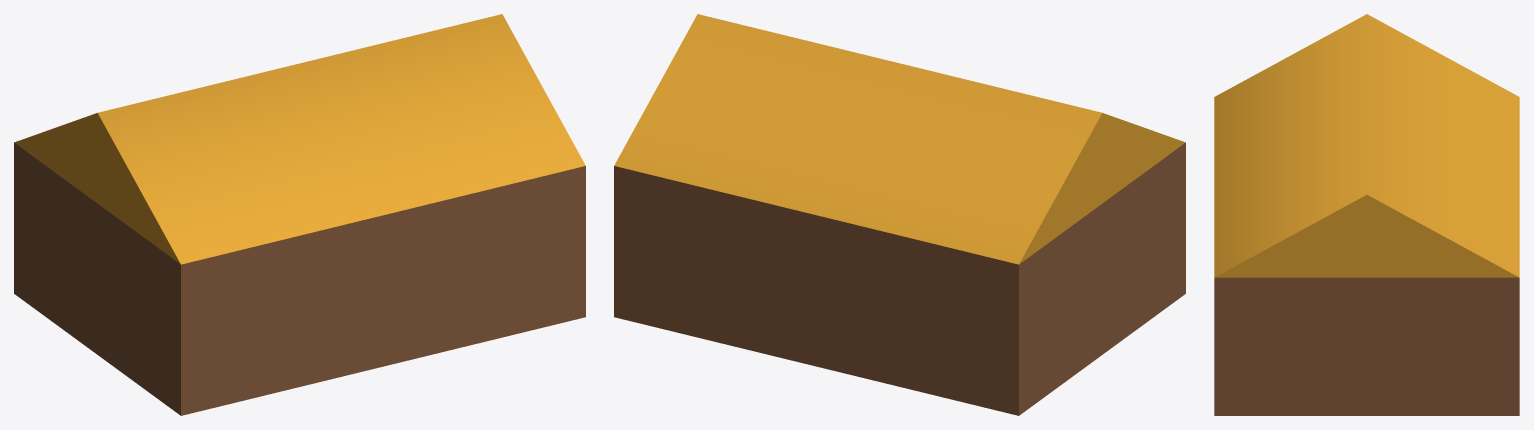
Rendered from house_08.fbx.
The picture shows the model from 3 angles, left to right: view 1: azimuth 30°, elevation 25°; view 2: azimuth 150°, elevation 25°; view 3: azimuth 270°, elevation 25°; orthographic projection. The views are drawn at different scales.
Visible parts, largest first — view 1: House, Roof; view 2: House, Roof; view 3: Roof, House.
Part boxes in pixels (x1,y1,x2,y2): House: [14, 142, 585, 415]; Roof: [14, 14, 585, 264]; House: [614, 142, 1185, 415]; Roof: [614, 14, 1185, 264]; Roof: [1214, 14, 1519, 277]; House: [1214, 277, 1519, 415].
Bounding box in the file's own units: 840 × 480 × 600.
